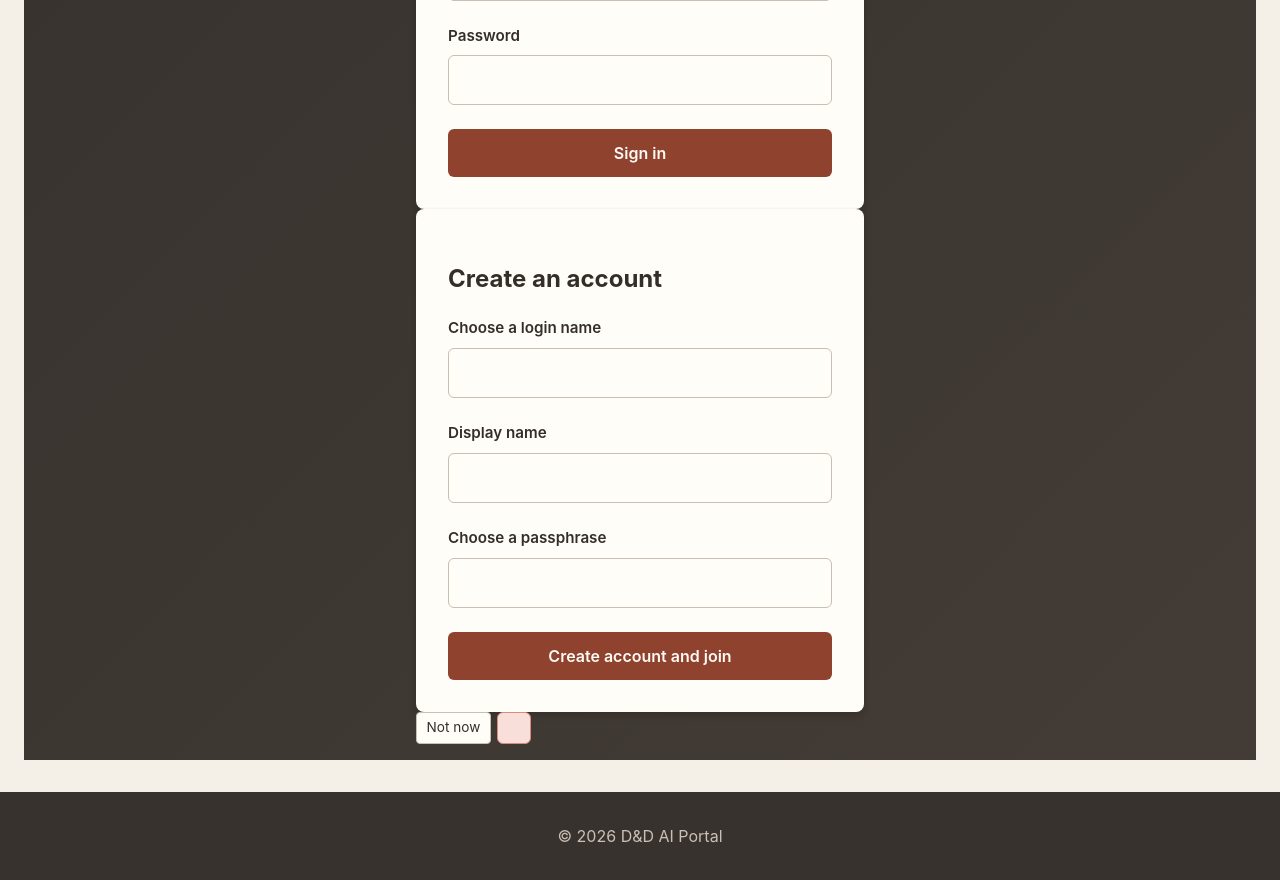
invitation continuation across Login › lets a visitor cancel from the sign-in state too
(page scrolled)
Click the button "Not now" at (453, 728), box [416, 712, 491, 744]
(page scrolled)
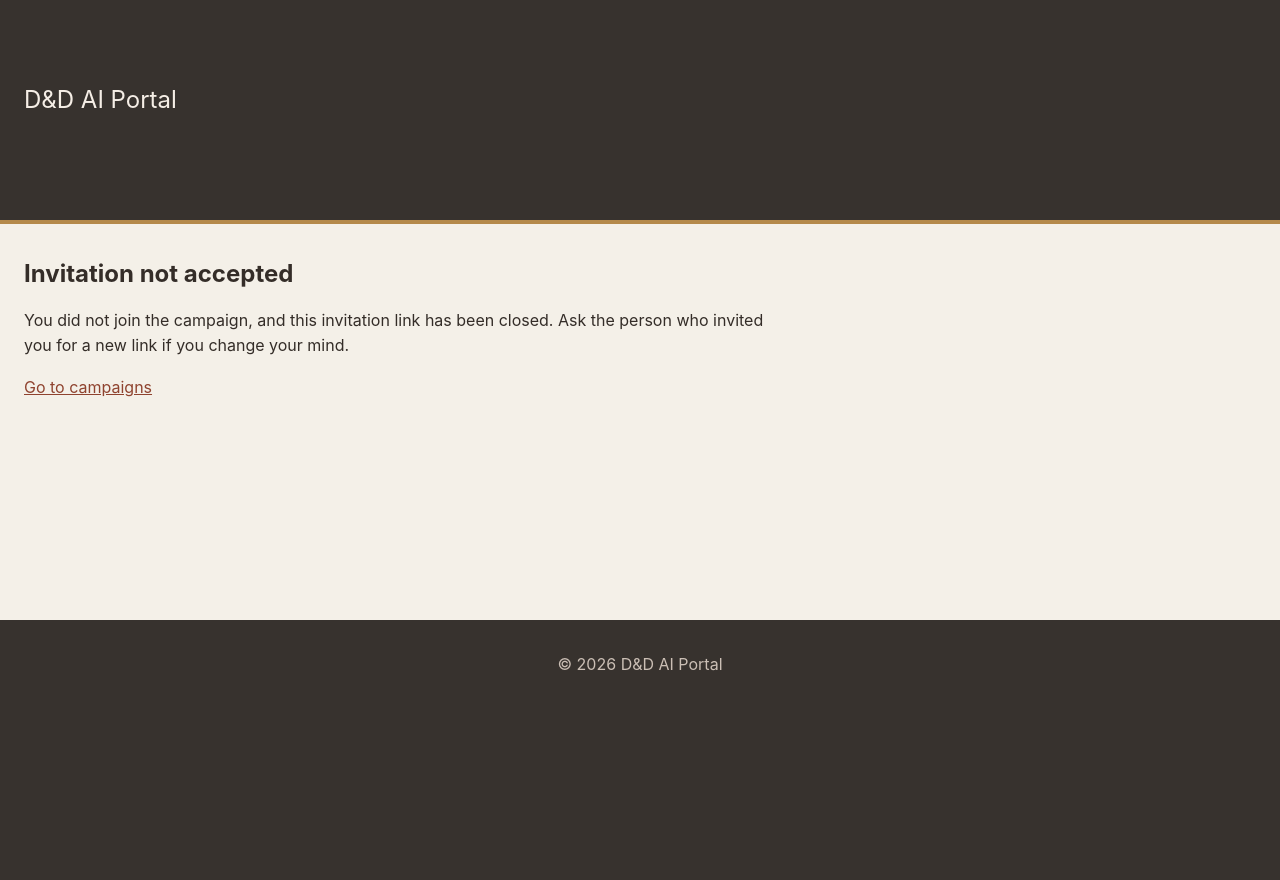
expect the heading "Invitation not accepted" is shown: met, box [24, 259, 293, 288]
